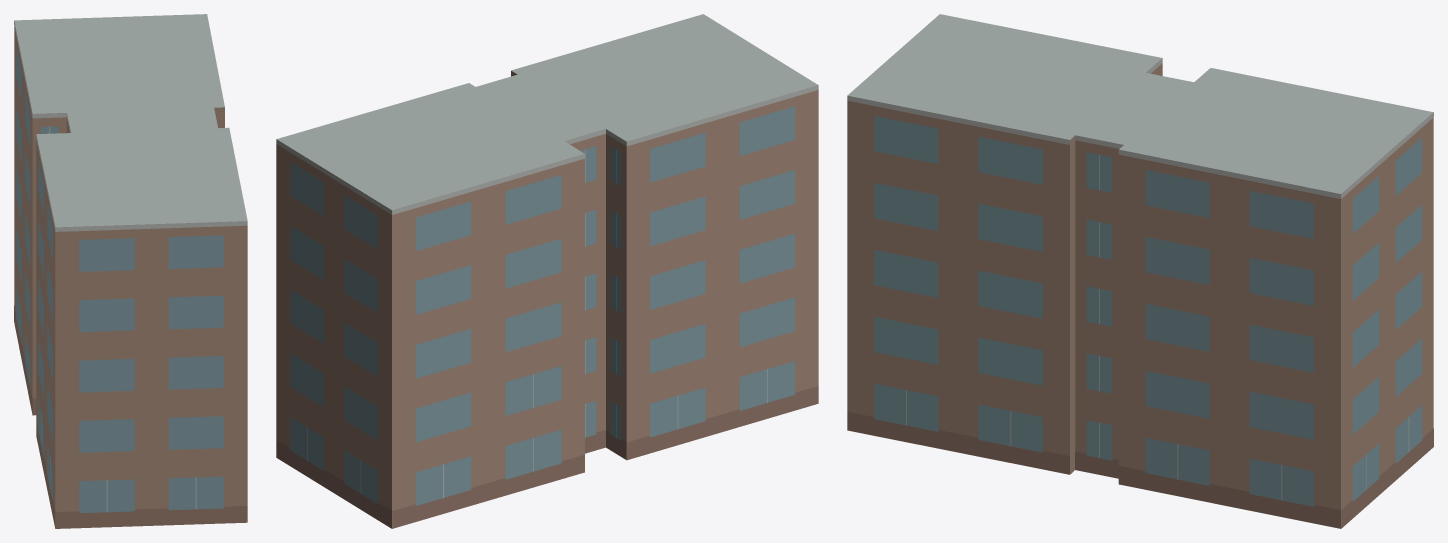
File: survey-upis-32976504.glb
3 renders of one model, left to right at view 1: azimuth 30°, elevation 25°; view 2: azimuth 150°, elevation 25°; view 3: azimuth 270°, elevation 25°, orthographic. The views are drawn at different scales.
Visible parts, largest first — view 1: survey-upis-32976504.tmp; view 2: survey-upis-32976504.tmp; view 3: survey-upis-32976504.tmp.
Part boxes in pixels (x1,y1,x2,y2): survey-upis-32976504.tmp: (14,14,247,528); survey-upis-32976504.tmp: (276,14,818,528); survey-upis-32976504.tmp: (847,14,1433,528).
Size of the model in its own units: 18.82 by 16.3 by 25.89.
